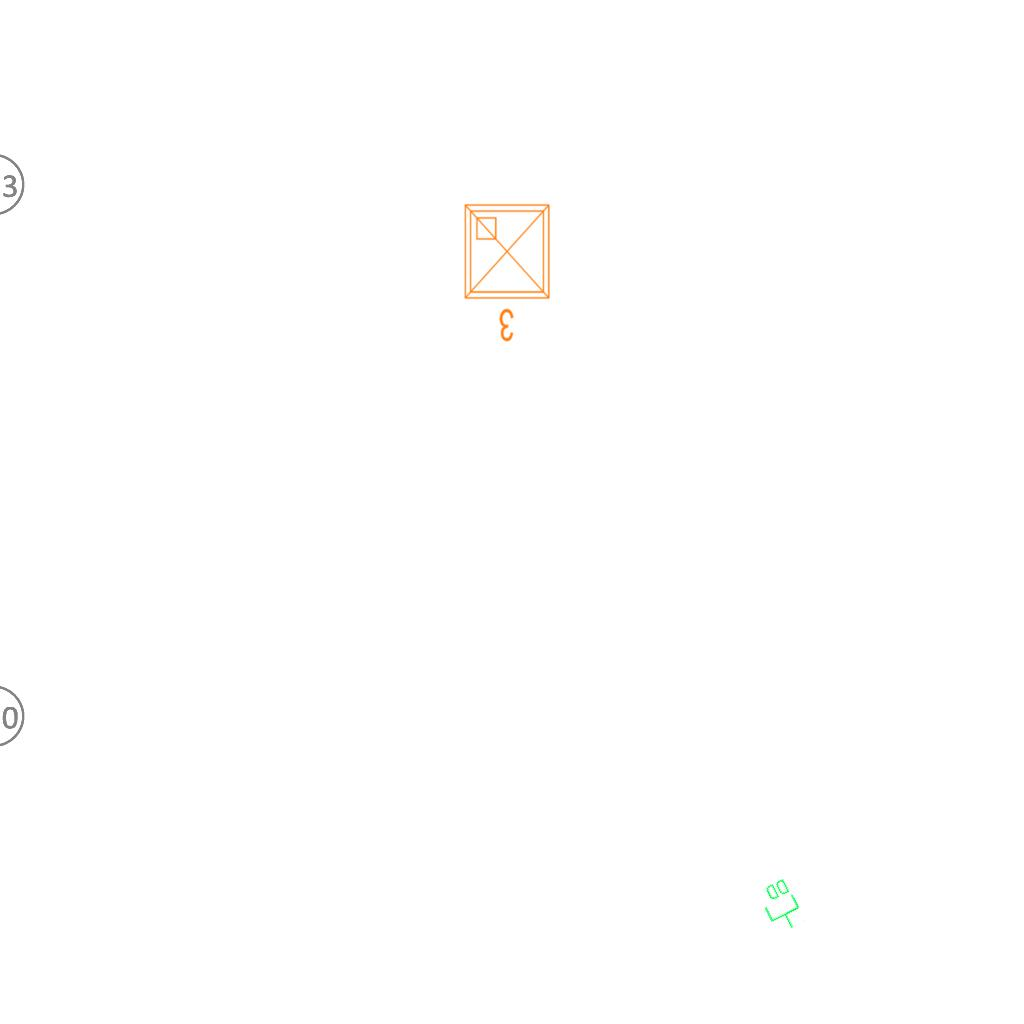Datenanschluss_zweifach: (754, 875, 809, 937)
Einbaudownlights_LED_Konferenzraeume: (457, 197, 561, 347)
